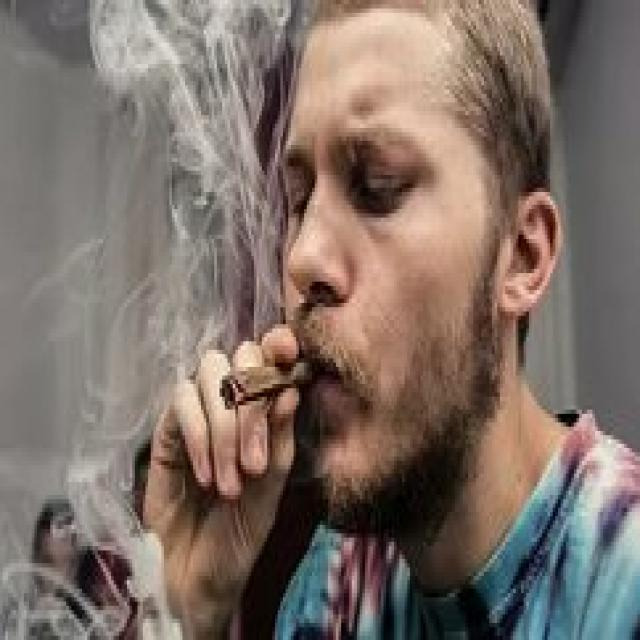smoke: (220, 354, 322, 414)
